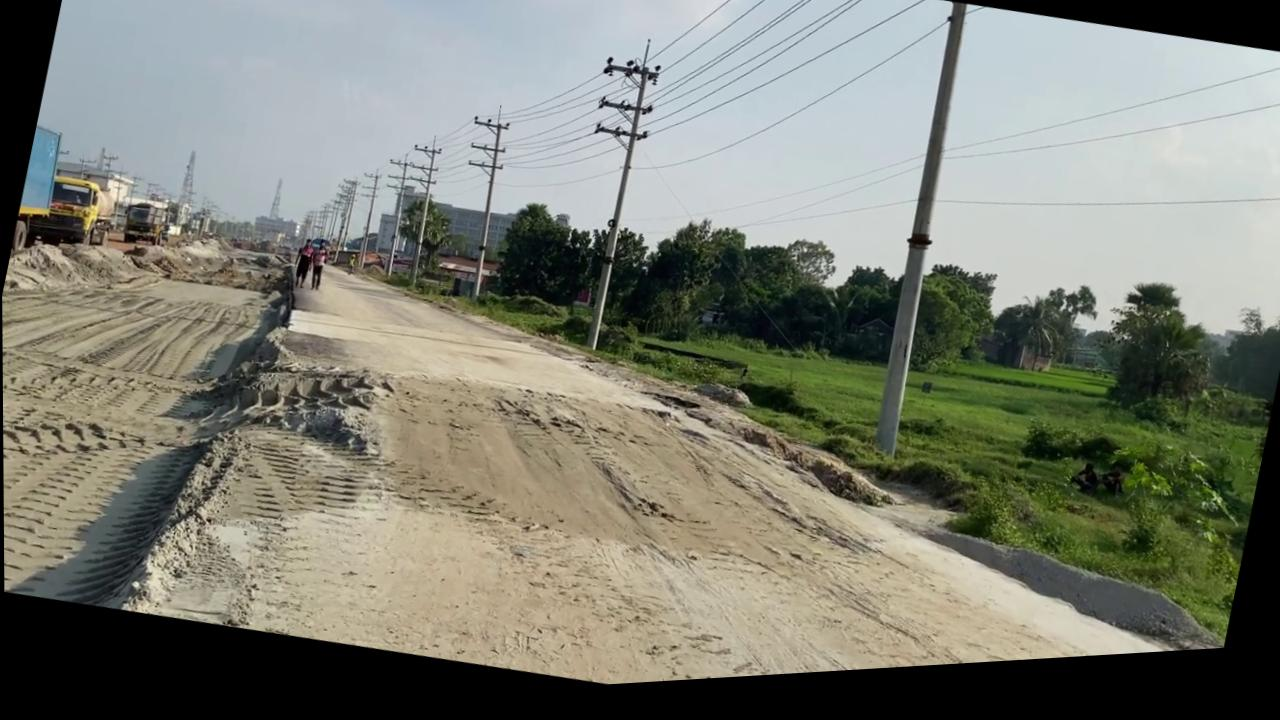Muddy road: (1, 196, 299, 636)
Pole: (855, 12, 987, 471), (578, 45, 663, 359)
Rickshaw: (121, 191, 1271, 714)
Traffic-sign: (1083, 282, 1226, 441), (387, 196, 458, 289)
Tree: (9, 124, 67, 260), (39, 171, 119, 254), (118, 197, 170, 252)
